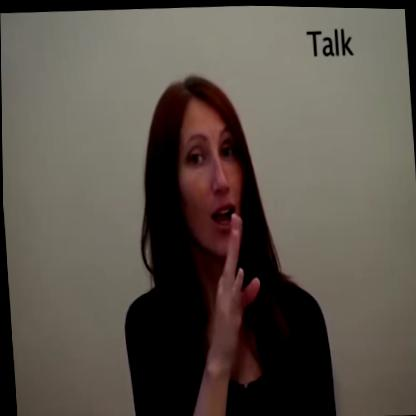Talk: (160, 65, 287, 369)
